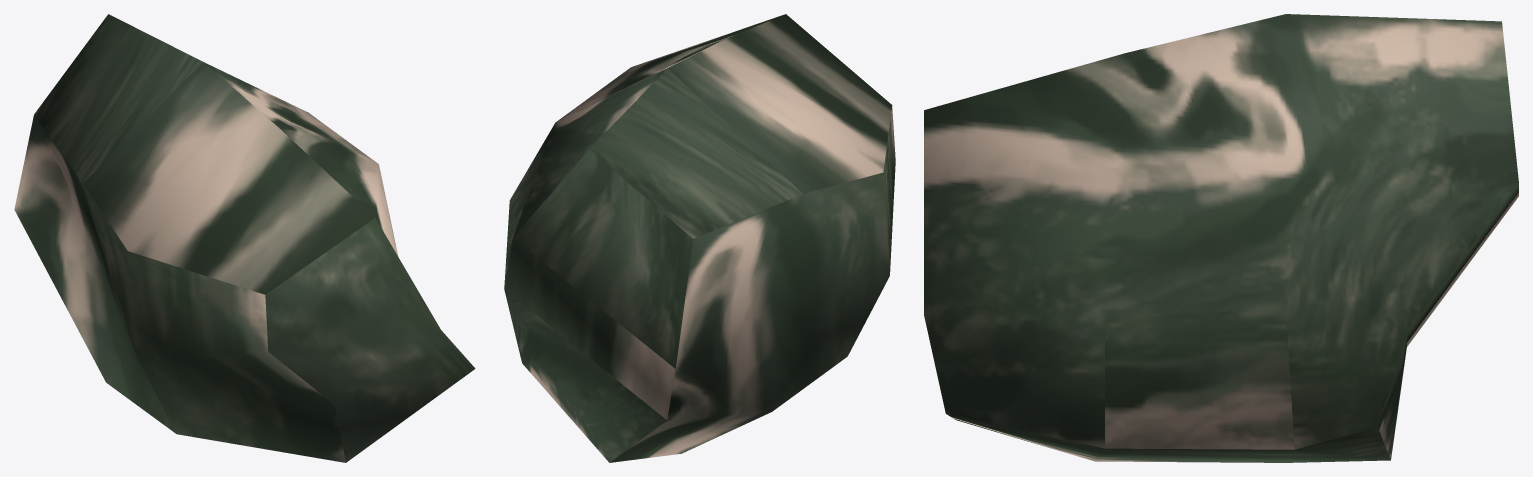
Rendered from migmatite.fbx.
3 renders of one model, left to right at view 1: azimuth 30°, elevation 25°; view 2: azimuth 150°, elevation 25°; view 3: azimuth 270°, elevation 25°, orthographic. The views are drawn at different scales.
Visible parts, largest first — view 1: migmatite; view 2: migmatite; view 3: migmatite.
Part boxes in pixels (x1,y1,x2,y2): migmatite: (14,14,475,462); migmatite: (504,14,895,462); migmatite: (924,14,1518,462).
Size of the model in its own units: 37.79 by 45.02 by 53.1.
